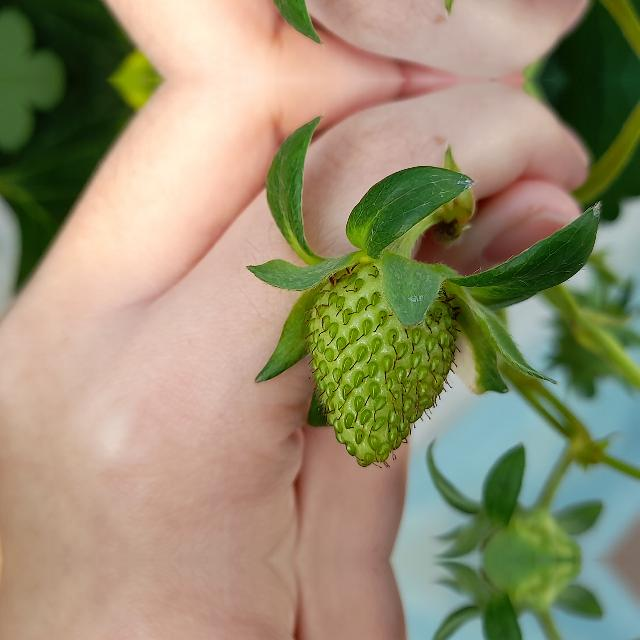Health_25: (300, 262, 460, 468)
